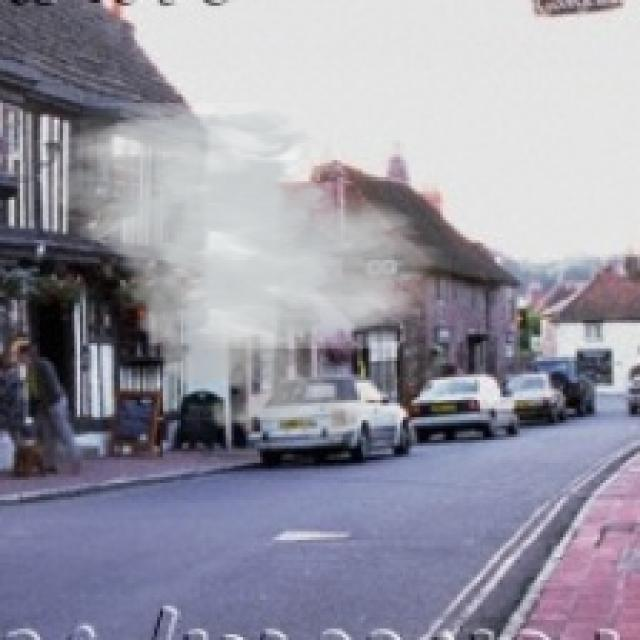Smoke: (34, 102, 452, 452)
